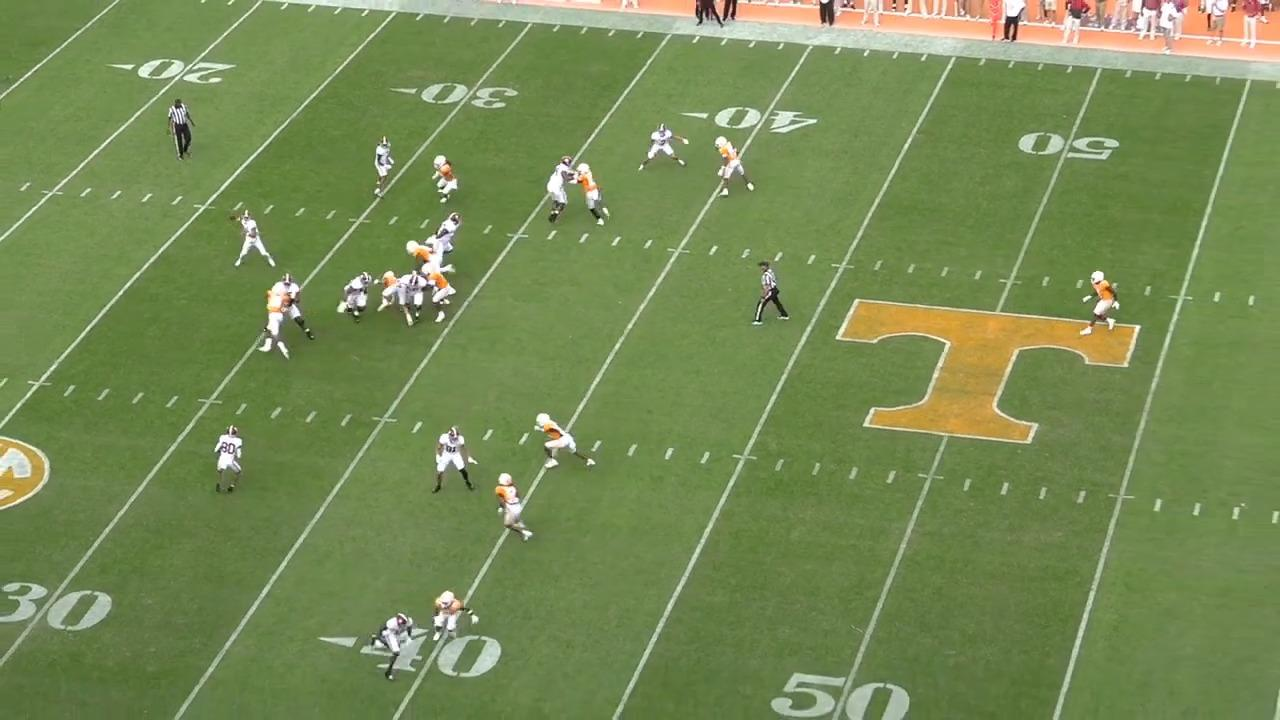player: (536, 412, 601, 476), (430, 424, 479, 498), (572, 160, 617, 229), (490, 469, 532, 542), (714, 131, 760, 197), (370, 609, 412, 681), (274, 273, 316, 341), (231, 211, 277, 273), (256, 281, 291, 361), (431, 588, 480, 645), (1079, 270, 1118, 341), (640, 120, 692, 173), (541, 153, 577, 227), (208, 425, 242, 500), (426, 212, 465, 274), (333, 272, 377, 325), (408, 239, 456, 280), (398, 273, 433, 326), (365, 131, 392, 198), (422, 263, 451, 322), (427, 150, 458, 203), (374, 269, 401, 311)
ref: (750, 258, 791, 329), (171, 97, 200, 164)
